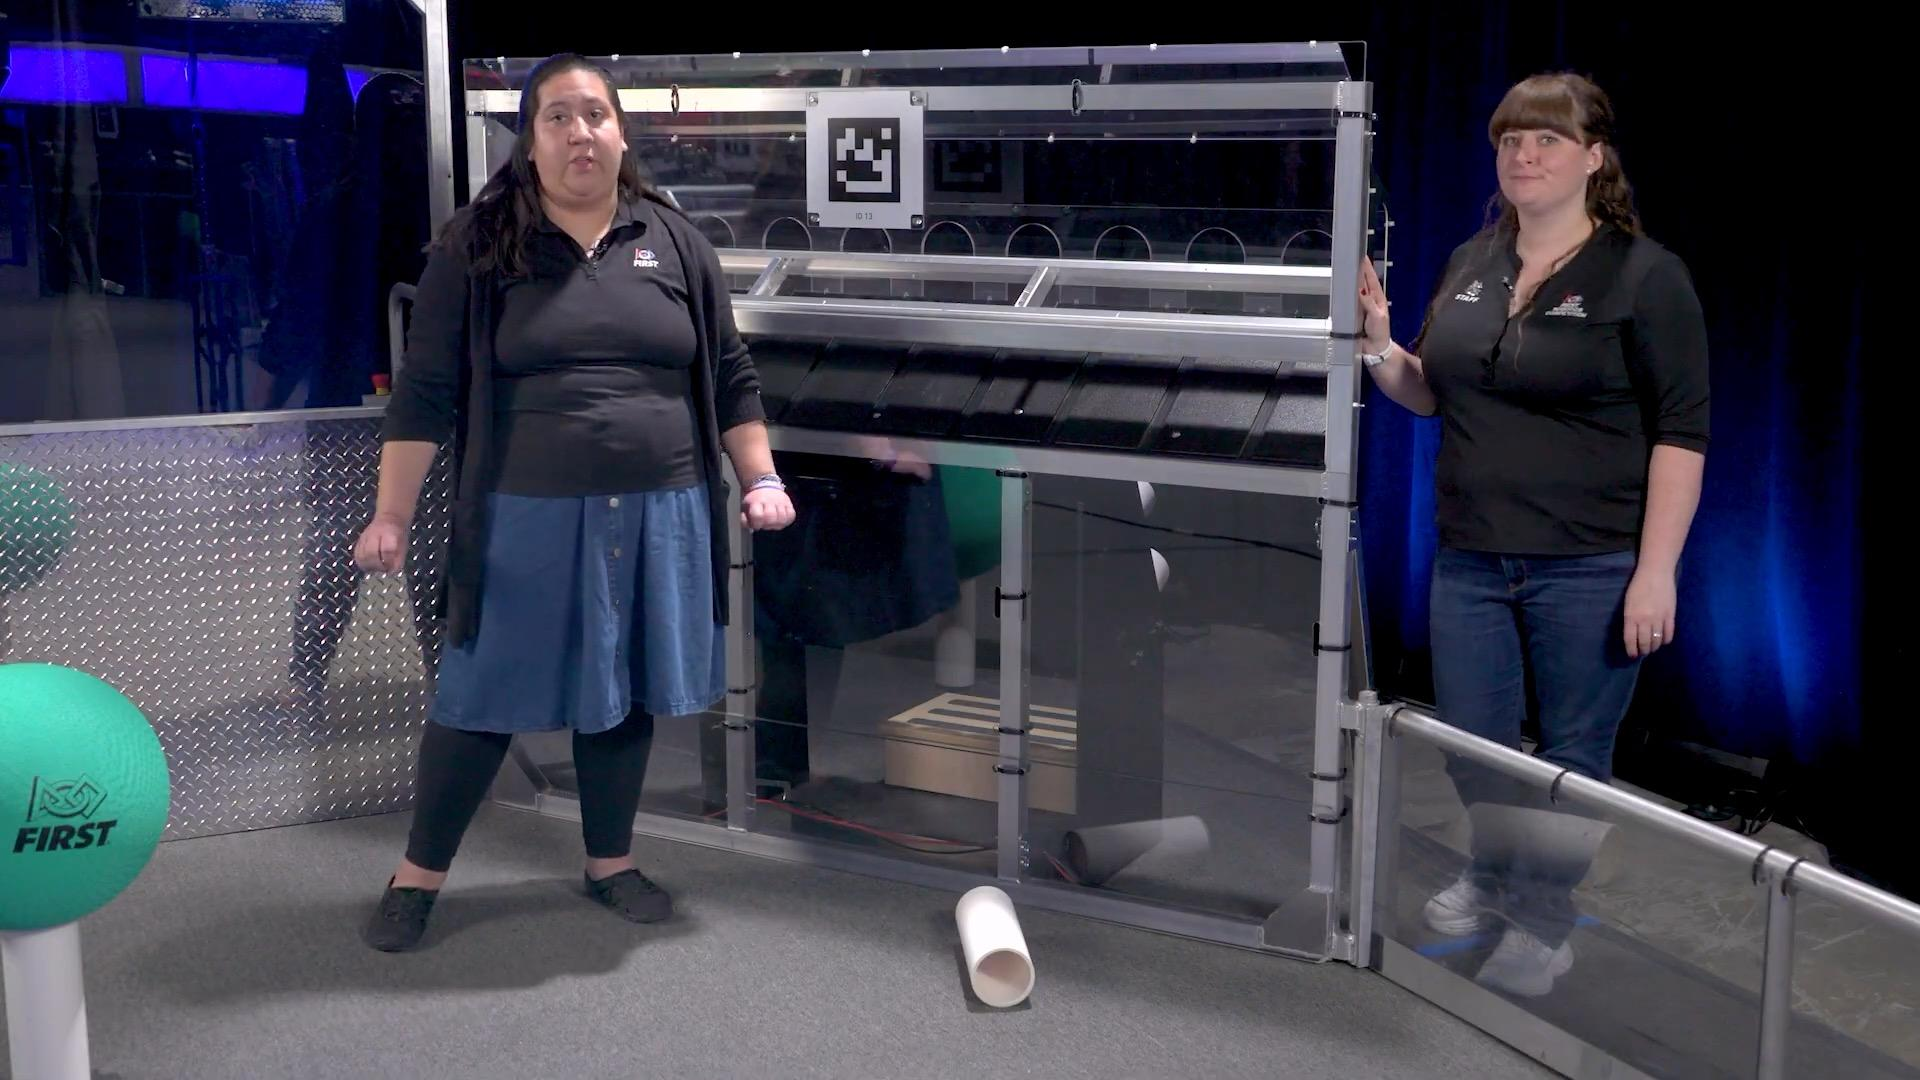ALGAE: (0, 662, 170, 934)
CORAL: (0, 922, 94, 1080), (955, 885, 1036, 1009)
